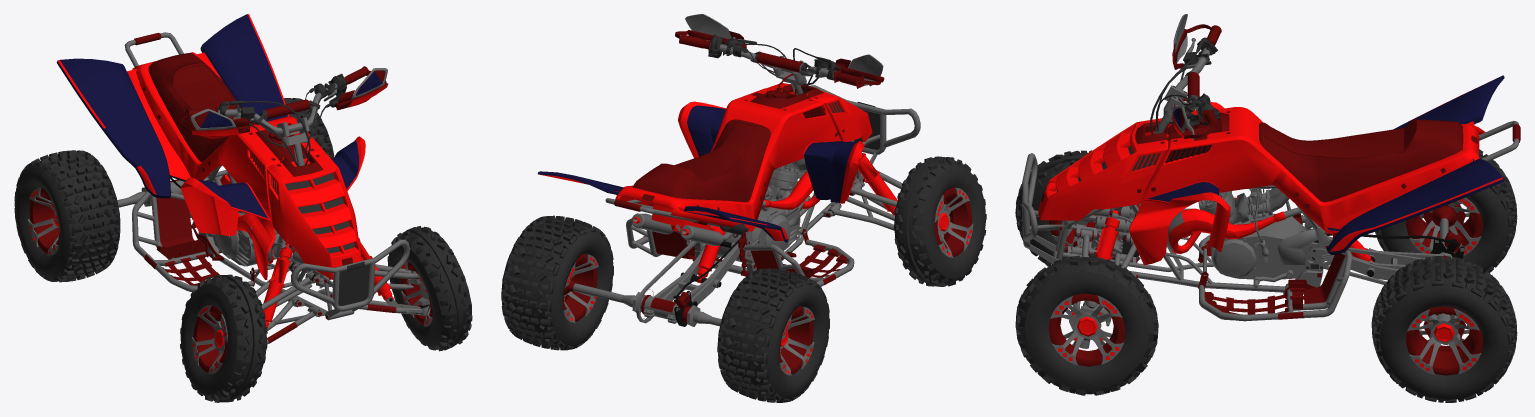
File: ATV.FBX
3 renders of one model, left to right at view 1: azimuth 30°, elevation 25°; view 2: azimuth 150°, elevation 25°; view 3: azimuth 270°, elevation 25°, orthographic. The views are drawn at different scales.
Parts seen in each view (by area): view 1: DrawCall21, DrawCall60, DrawCall58, DrawCall22, DrawCall57, DrawCall18, DrawCall77, DrawCall20, DrawCall35, DrawCall66, DrawCall30, DrawCall78 (+27 smaller); view 2: DrawCall60, DrawCall59, DrawCall18, DrawCall58, DrawCall77, DrawCall20, DrawCall67, DrawCall16, DrawCall15, DrawCall19, DrawCall34, DrawCall22 (+26 smaller); view 3: DrawCall59, DrawCall57, DrawCall18, DrawCall77, DrawCall22, DrawCall21, DrawCall15, DrawCall78, DrawCall60, DrawCall23, DrawCall34, DrawCall58 (+27 smaller).
Part boxes in pixels (x1,y1,x2,y2): DrawCall21: [56, 14, 289, 198]; DrawCall60: [14, 150, 120, 282]; DrawCall58: [180, 274, 267, 402]; DrawCall22: [267, 152, 361, 279]; DrawCall57: [387, 226, 472, 351]; DrawCall18: [132, 52, 325, 225]; DrawCall77: [148, 53, 267, 161]; DrawCall20: [181, 177, 271, 235]; DrawCall35: [144, 197, 254, 286]; DrawCall66: [291, 239, 410, 317]; DrawCall30: [217, 73, 346, 166]; DrawCall78: [124, 32, 354, 320]; DrawCall60: [717, 268, 829, 402]; DrawCall59: [501, 215, 613, 350]; DrawCall18: [615, 88, 840, 231]; DrawCall58: [893, 156, 986, 286]; DrawCall77: [632, 119, 770, 202]; DrawCall20: [803, 141, 864, 203]; DrawCall67: [643, 242, 739, 323]; DrawCall16: [631, 167, 815, 250]; DrawCall15: [716, 158, 807, 262]; DrawCall19: [678, 101, 726, 158]; DrawCall34: [626, 213, 854, 286]; DrawCall22: [767, 83, 872, 141]; DrawCall59: [1371, 256, 1517, 402]; DrawCall57: [1015, 255, 1158, 395]; DrawCall18: [1139, 107, 1485, 233]; DrawCall77: [1259, 119, 1463, 202]; DrawCall22: [1038, 118, 1168, 220]; DrawCall21: [1326, 75, 1504, 254]; DrawCall15: [1139, 188, 1317, 288]; DrawCall78: [1053, 121, 1519, 294]; DrawCall60: [1375, 149, 1517, 272]; DrawCall23: [1129, 200, 1199, 265]; DrawCall34: [1199, 215, 1352, 321]; DrawCall58: [1015, 150, 1140, 266].
Size of the model in its own units: 1054 by 913 by 1507.
